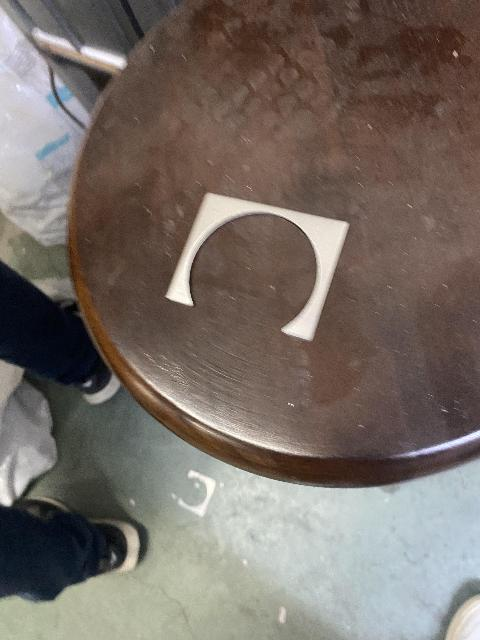Metal: (163, 191, 350, 342)
